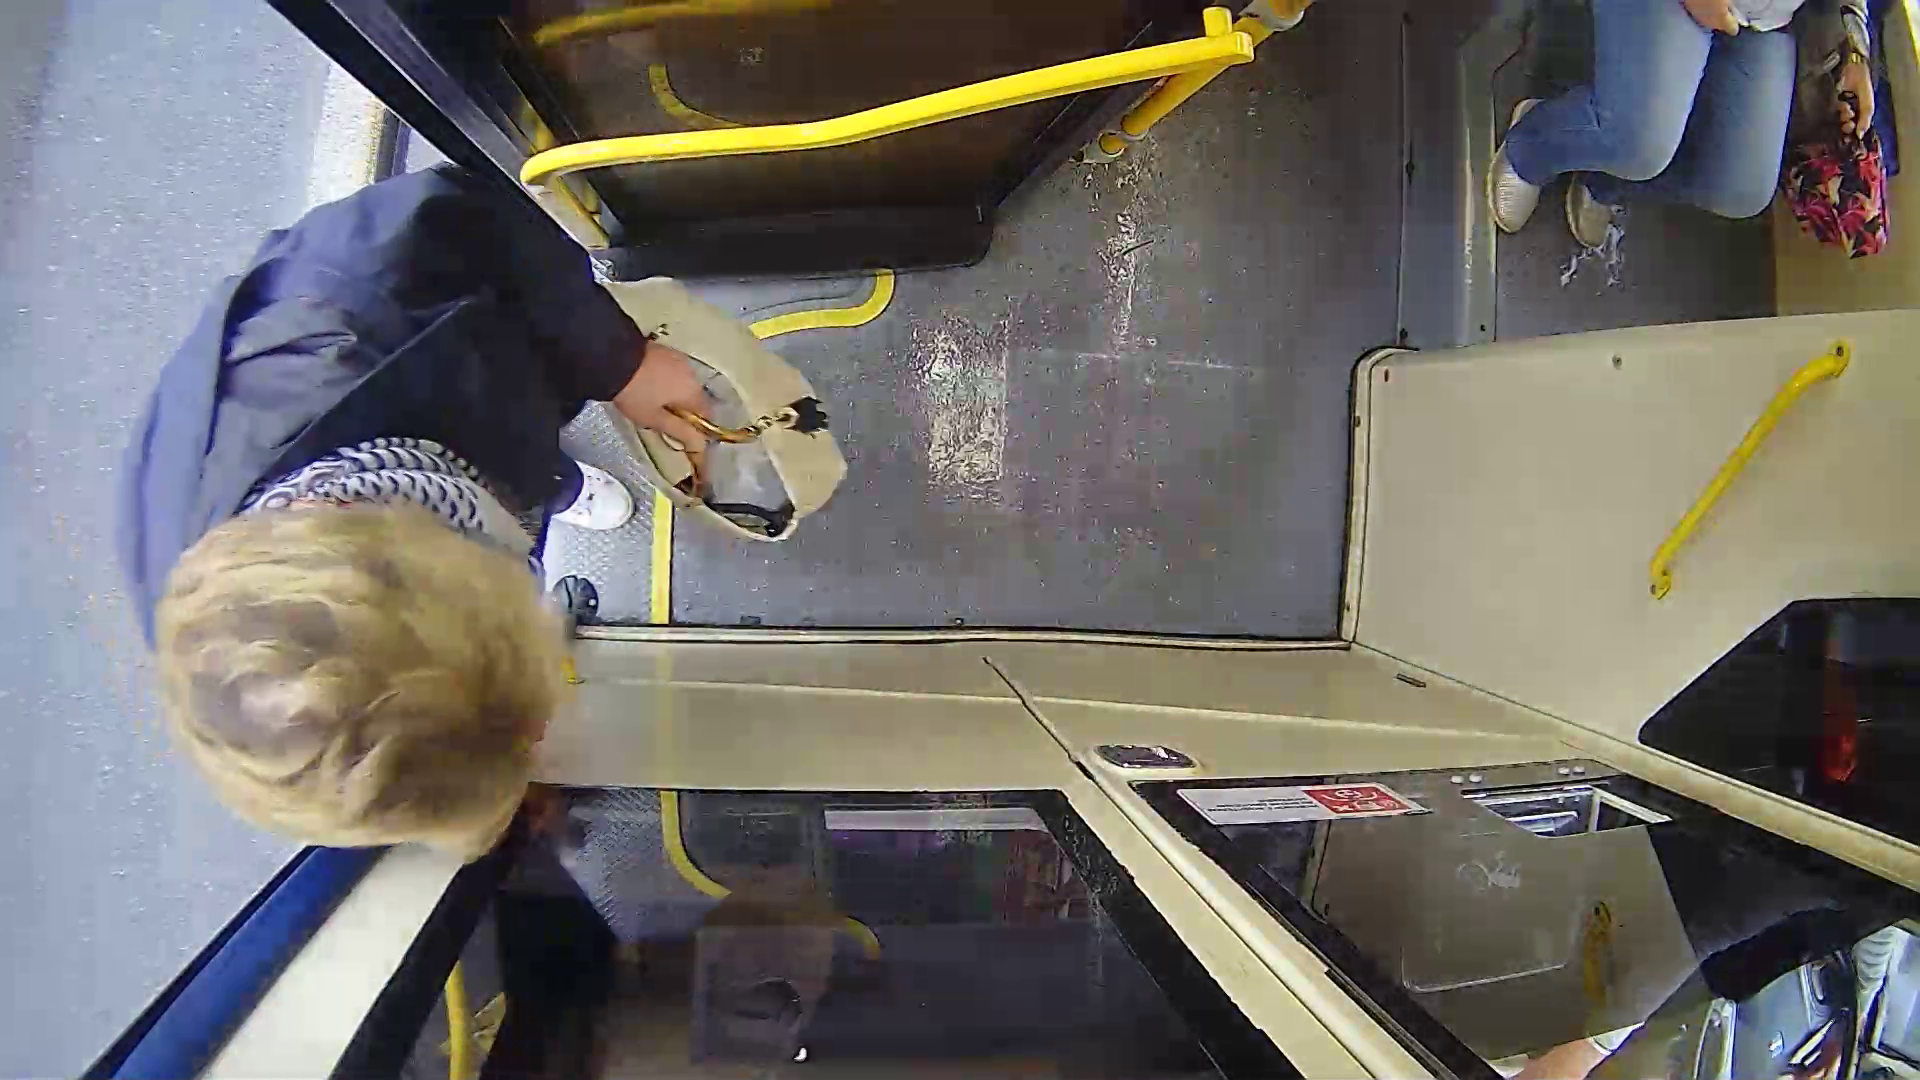person: (106, 188, 851, 840)
